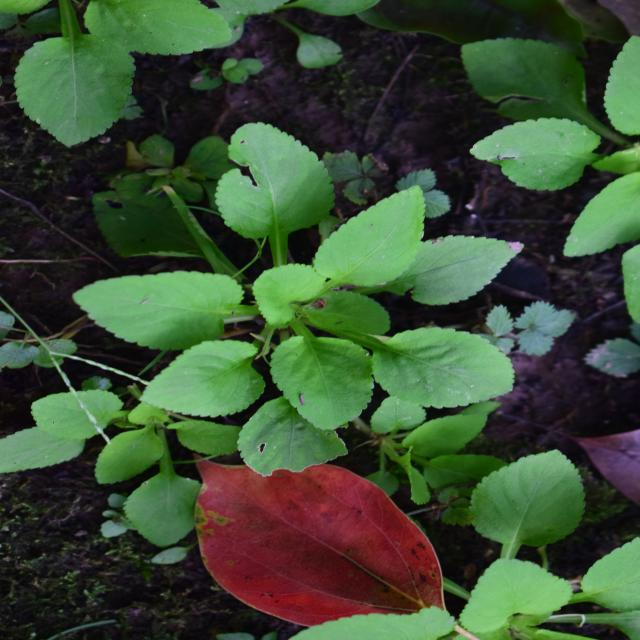Viola: (147, 137, 436, 540)
